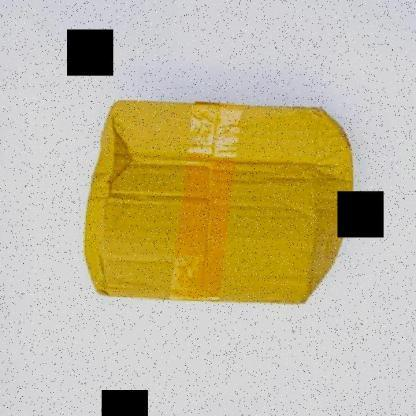-: (83, 99, 359, 303)
